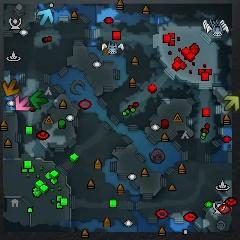x1: (15, 96, 30, 112)
x2: (224, 95, 239, 112)
x3: (37, 9, 54, 27)
x4: (30, 91, 48, 109)
x5: (2, 79, 21, 96)
